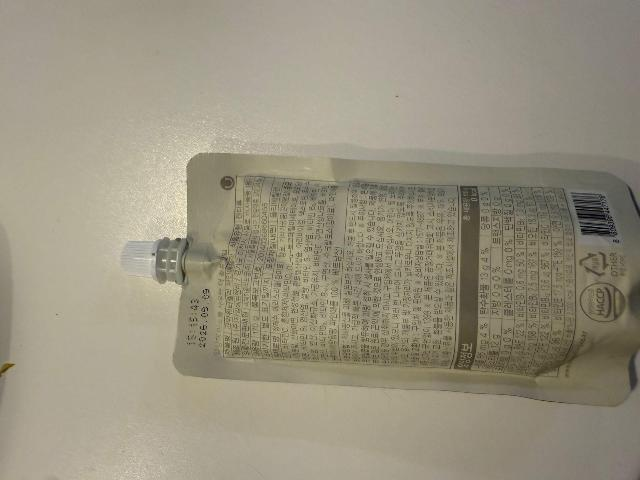Organik: (184, 154, 640, 401)
Plastik: (121, 239, 154, 278), (158, 235, 182, 280)
